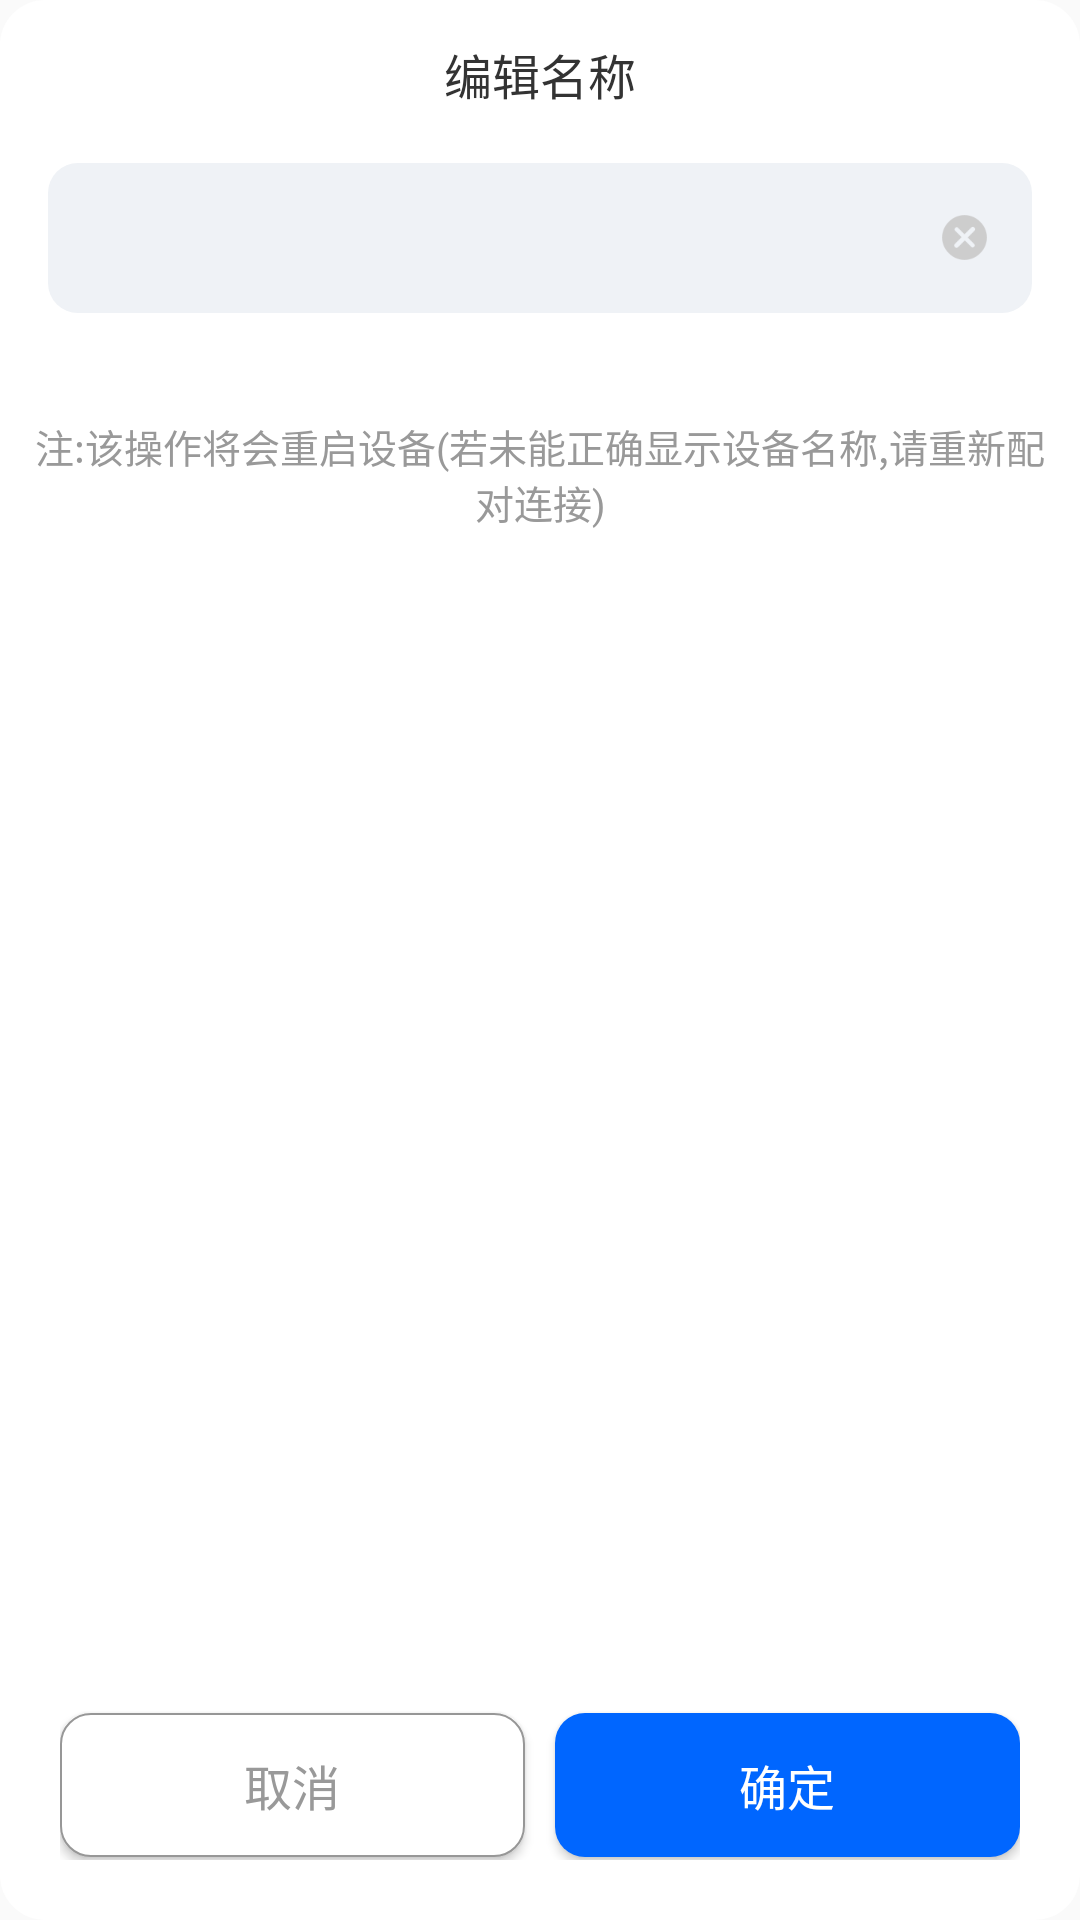

Screen size 1080×1920. Icon name, then its box in pixels as (x1, y1, x2, y2):
edit clear: (942, 215, 987, 260)
